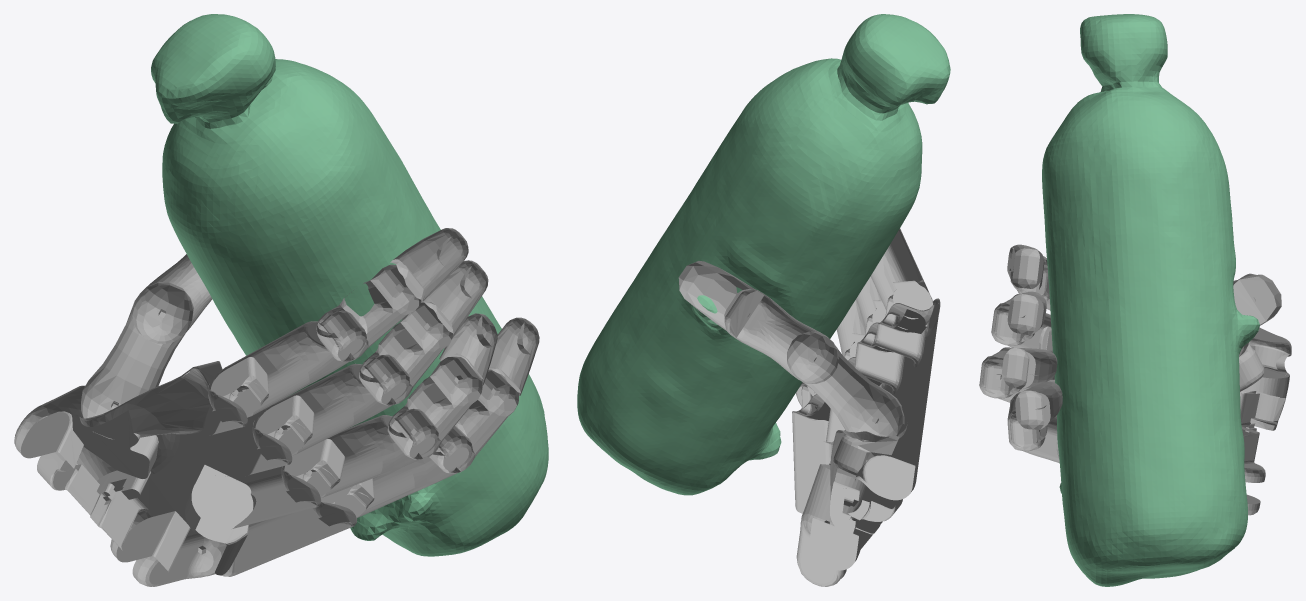
The picture shows the model from 3 angles, left to right: view 1: azimuth 30°, elevation 25°; view 2: azimuth 150°, elevation 25°; view 3: azimuth 270°, elevation 25°; orthographic projection. The views are drawn at different scales.
Parts seen in each view (by area): view 1: world; view 2: world; view 3: world.
Boxes of the visible parts, <box> form: world: <box>14,14,548,586</box>; world: <box>577,14,950,586</box>; world: <box>979,14,1291,586</box>.
Size of the model in its own units: 1.23 by 1.6 by 0.9038.
